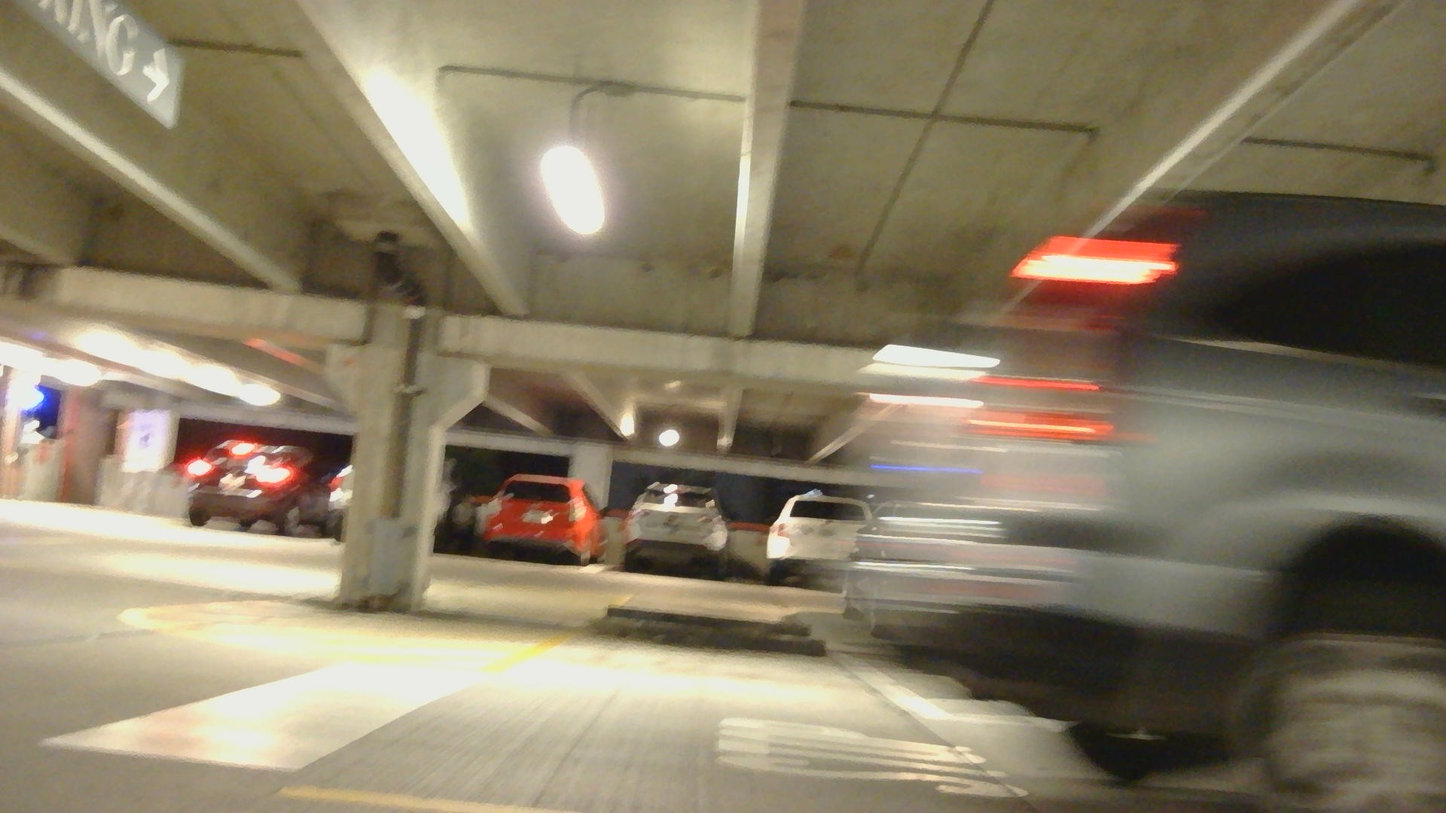empty_spot: (483, 610, 985, 719)
